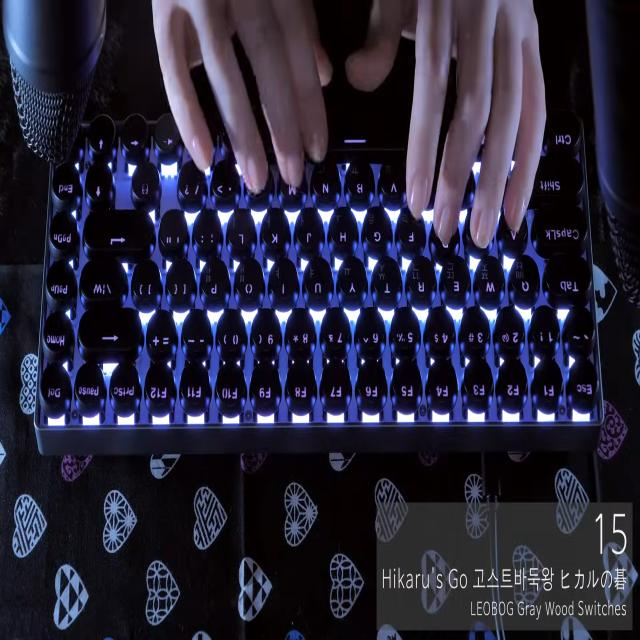keyboard-with-hands: (34, 113, 605, 429)
